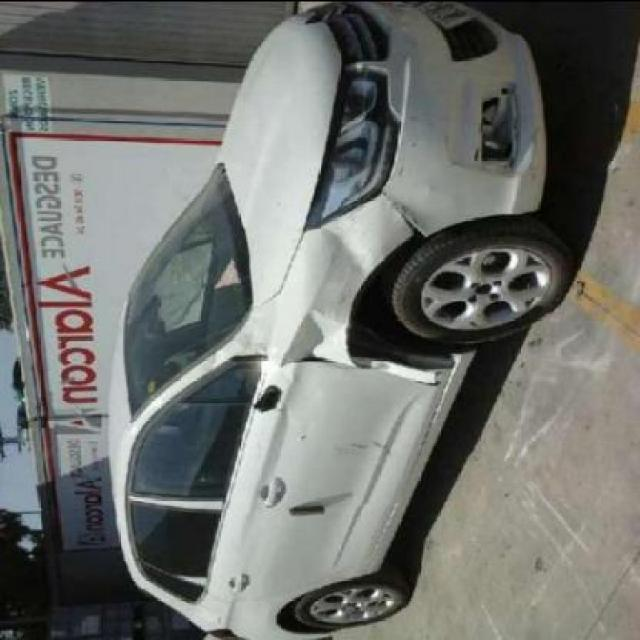damage: (278, 189, 452, 384), (254, 381, 289, 417)
